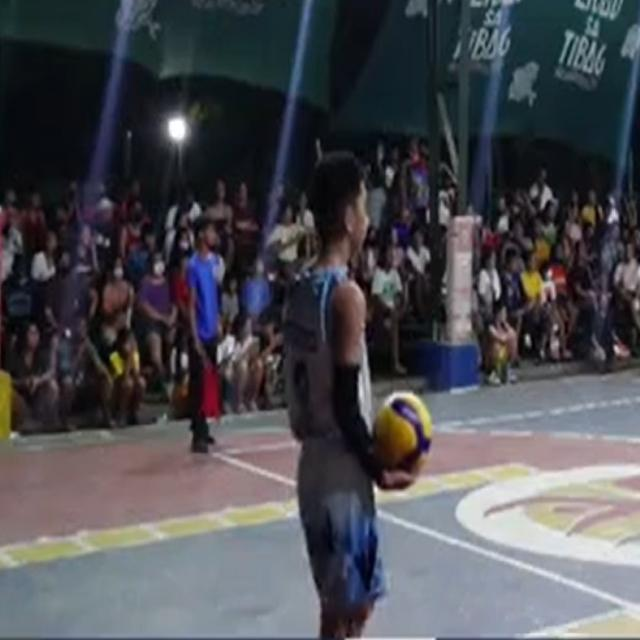volleyball: (371, 392, 433, 472)
